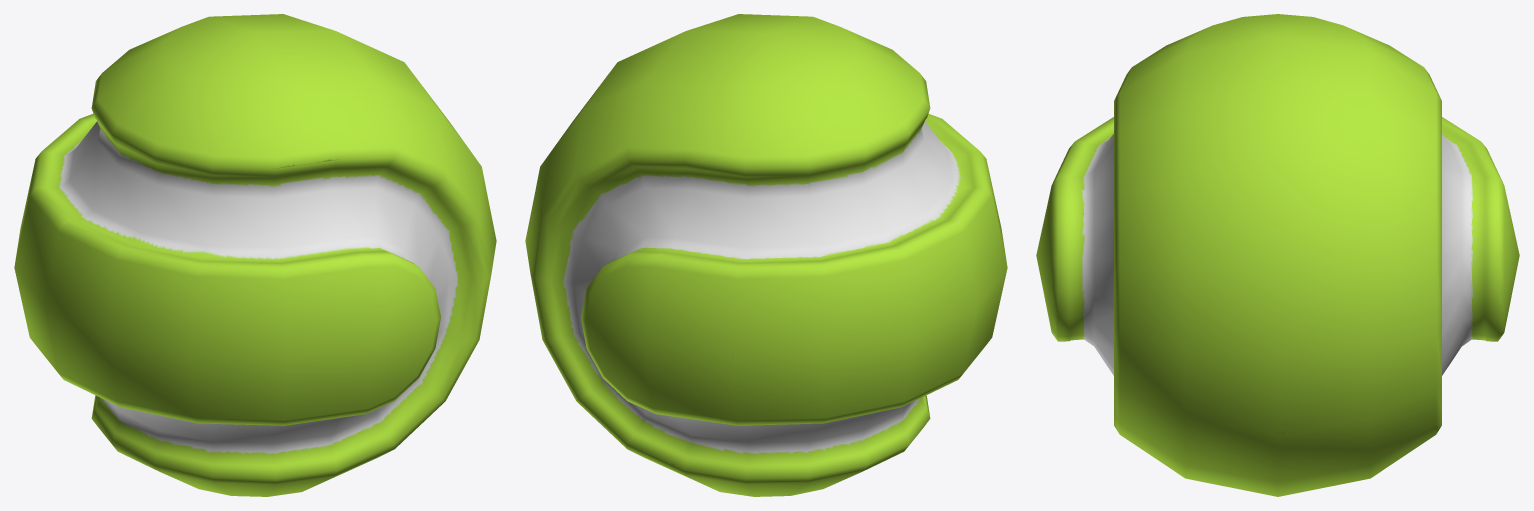
File: tennisball_wtextures.fbx
3 views of the same model, side by side, from view 1: azimuth 30°, elevation 25°; view 2: azimuth 150°, elevation 25°; view 3: azimuth 270°, elevation 25° (orthographic).
Parts seen in each view (by area): view 1: Sphere.002; view 2: Sphere.002; view 3: Sphere.002.
Part boxes in pixels (bbox=[...]): Sphere.002: bbox=[14, 14, 496, 496]; Sphere.002: bbox=[525, 14, 1007, 496]; Sphere.002: bbox=[1036, 14, 1519, 496].
Bounding box in the file's own units: 200 × 200 × 200.
Materials: 1 (1 with a texture image).
